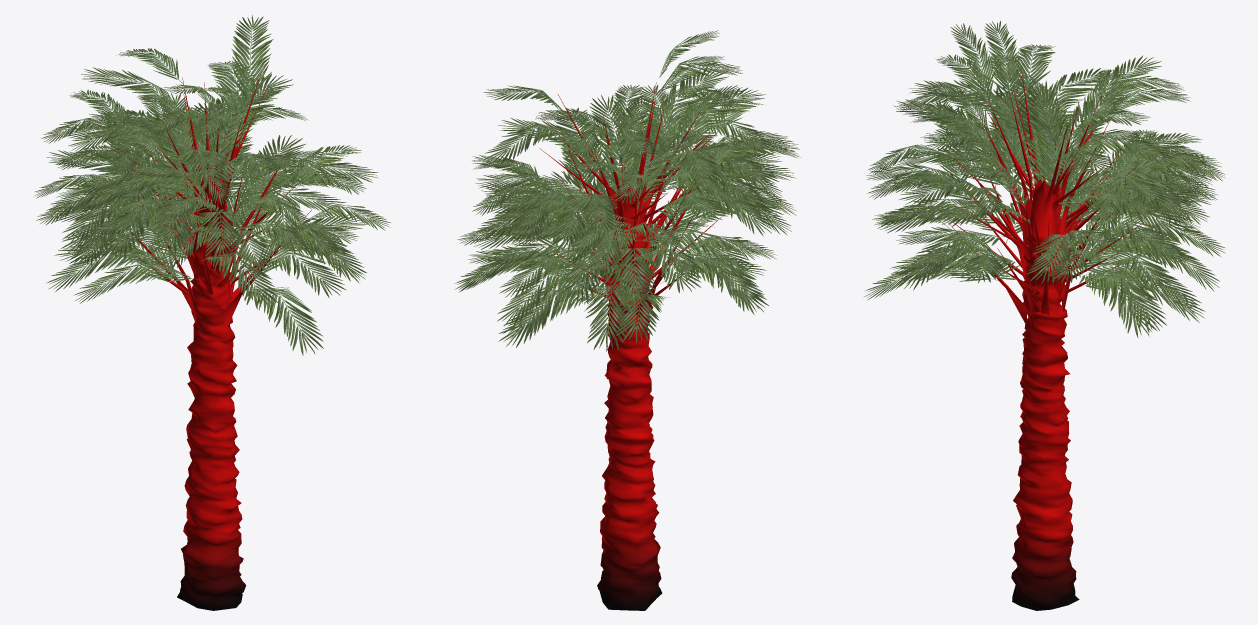
Rendered from Palm_3_11.fbx.
3 views of the same model, side by side, from view 1: azimuth 30°, elevation 25°; view 2: azimuth 150°, elevation 25°; view 3: azimuth 270°, elevation 25° (orthographic).
Parts seen in each view (by area): view 1: Palm_3_11; view 2: Palm_3_11; view 3: Palm_3_11.
Part boxes in pixels (x1=…): Palm_3_11: x1=33, y1=15, x2=390, y2=610; Palm_3_11: x1=454, y1=30, x2=800, y2=610; Palm_3_11: x1=863, y1=21, x2=1225, y2=610.
Bounding box in the file's own units: 4274 × 6865 × 4466.
